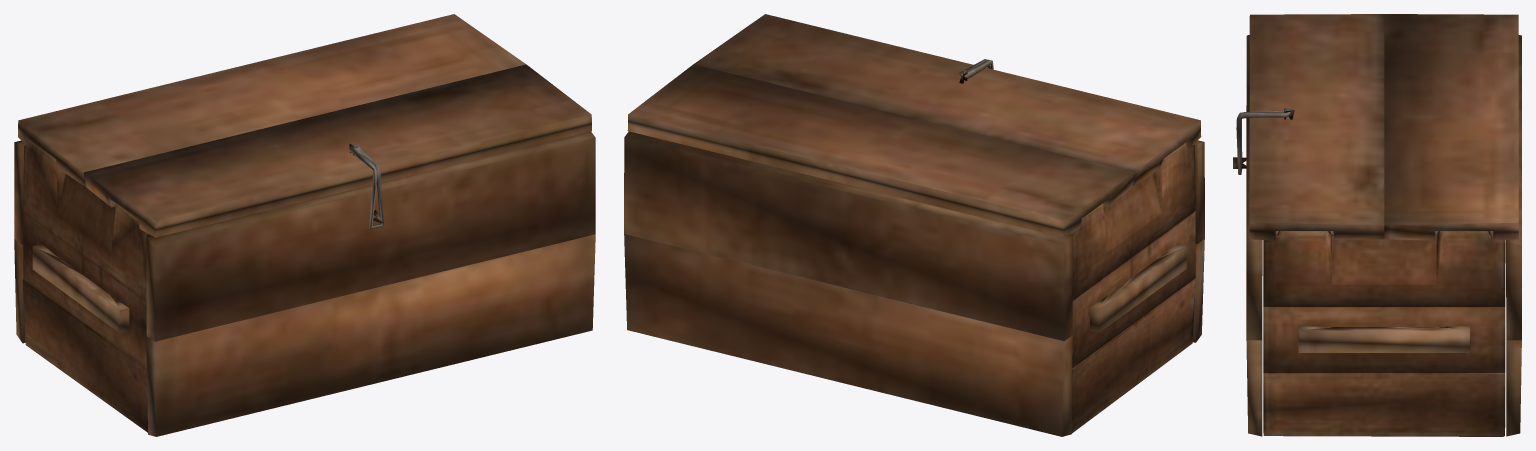
Rendered from wooden_crate_01.glb.
3 renders of one model, left to right at view 1: azimuth 30°, elevation 25°; view 2: azimuth 150°, elevation 25°; view 3: azimuth 270°, elevation 25°, orthographic. The views are drawn at different scales.
Parts seen in each view (by area): view 1: wooden_crate_01, wooden_crate_01_lid, wooden_crate_01_latch; view 2: wooden_crate_01, wooden_crate_01_lid; view 3: wooden_crate_01_lid, wooden_crate_01, wooden_crate_01_latch.
Part boxes in pixels (bbox=[...]): wooden_crate_01: bbox=[14, 131, 595, 436]; wooden_crate_01_lid: bbox=[18, 14, 591, 237]; wooden_crate_01_latch: bbox=[350, 146, 383, 228]; wooden_crate_01: bbox=[624, 131, 1204, 436]; wooden_crate_01_lid: bbox=[627, 14, 1201, 237]; wooden_crate_01_lid: bbox=[1249, 14, 1518, 240]; wooden_crate_01: bbox=[1233, 35, 1521, 436]; wooden_crate_01_latch: bbox=[1236, 111, 1290, 174].
Size of the model in its own units: 0.7229 by 0.3469 by 0.4043.
1 material, 1 textured.
